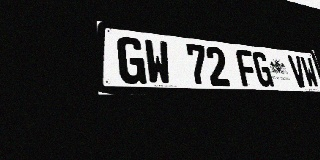2: (205, 46, 230, 86)
7: (184, 43, 211, 86)
F: (235, 49, 259, 87)
G: (117, 36, 147, 84), (251, 51, 274, 87)
V: (287, 55, 308, 88)
W: (144, 39, 172, 85), (299, 56, 320, 88)
